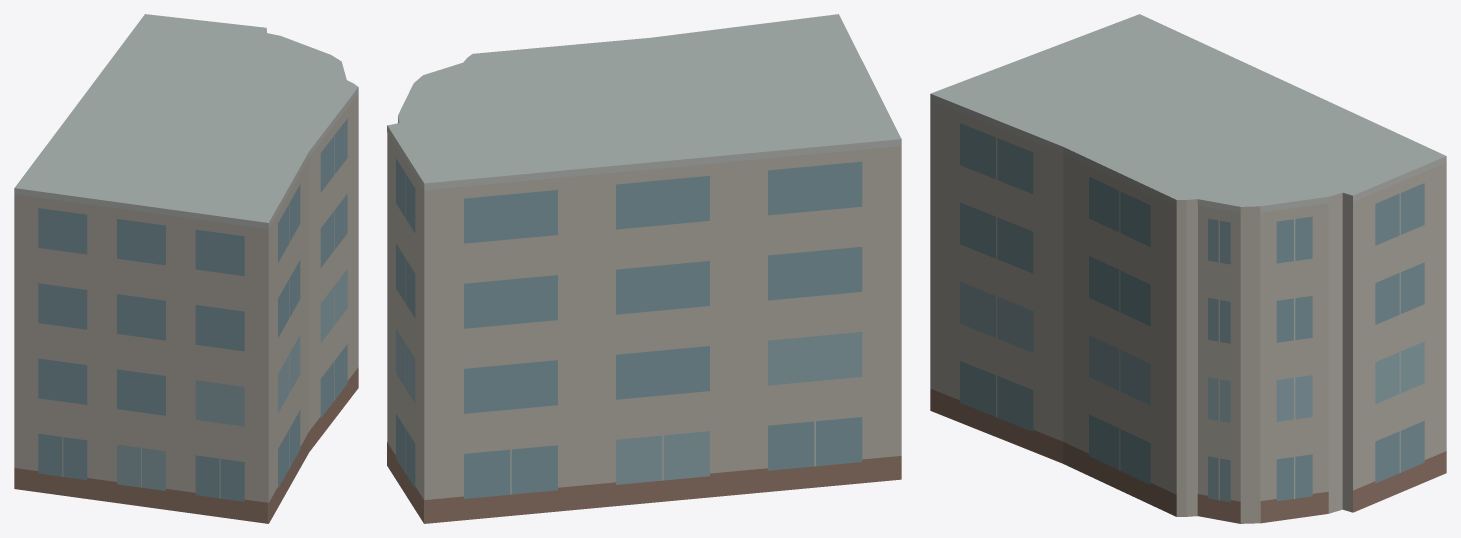
The model's file is survey-upis-32595427.glb.
3 views of the same model, side by side, from view 1: azimuth 30°, elevation 25°; view 2: azimuth 150°, elevation 25°; view 3: azimuth 270°, elevation 25° (orthographic). The views are drawn at different scales.
Parts seen in each view (by area): view 1: survey-upis-32595427.tmp; view 2: survey-upis-32595427.tmp; view 3: survey-upis-32595427.tmp.
Boxes of the visible parts, bbox=[...] form: survey-upis-32595427.tmp: bbox=[14, 14, 358, 523]; survey-upis-32595427.tmp: bbox=[387, 14, 901, 523]; survey-upis-32595427.tmp: bbox=[930, 14, 1446, 523].
Bounding box in the file's own units: 15.8 × 12.1 × 17.87.
